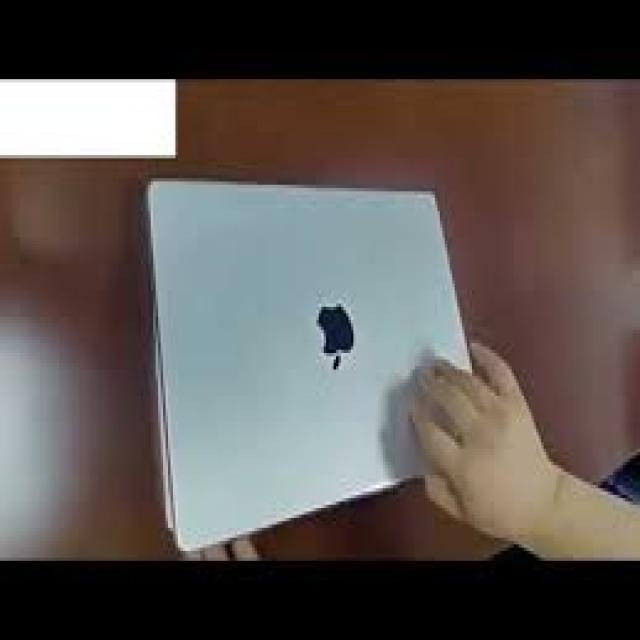laptop: (141, 171, 474, 551)
